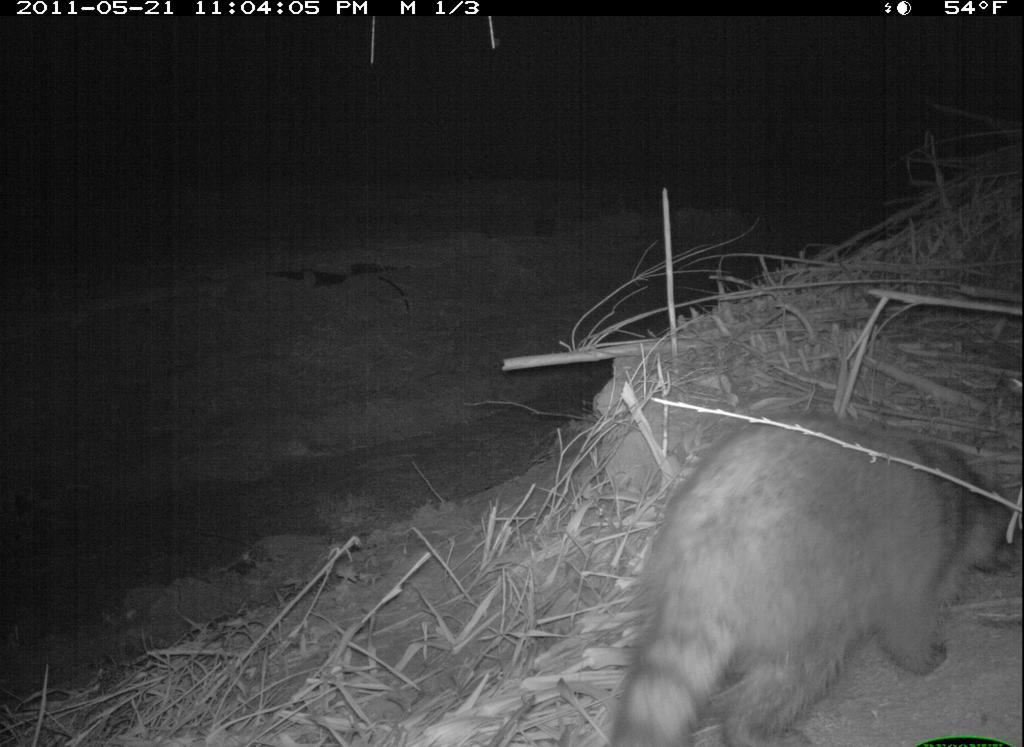raccoon: (591, 392, 1007, 747)
